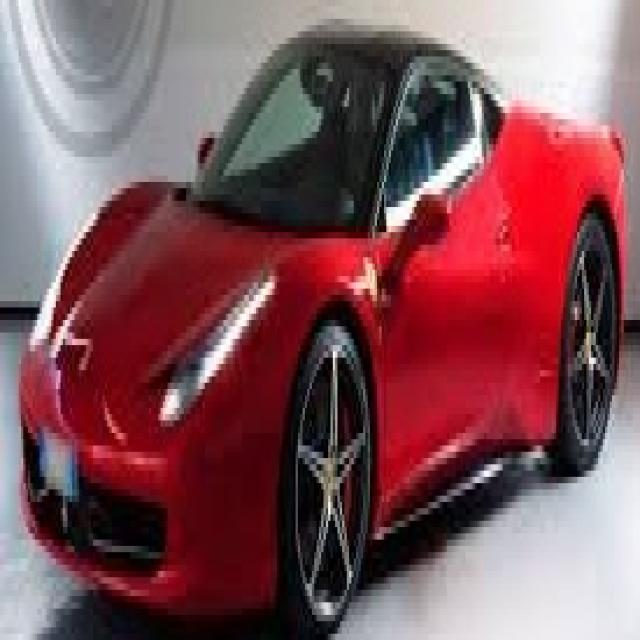red: (17, 29, 626, 603)
